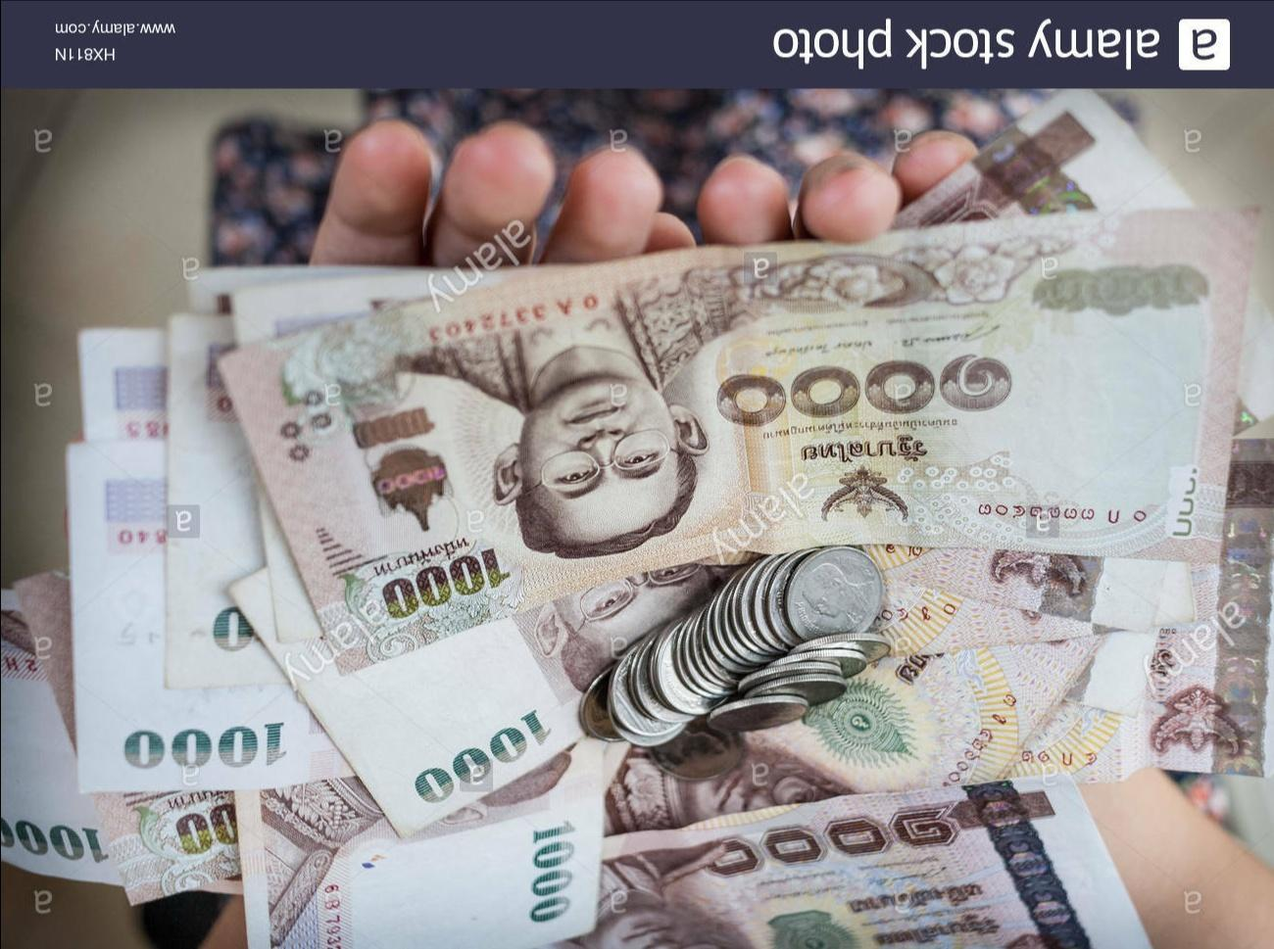1000BahtTai: (251, 216, 1224, 633)
